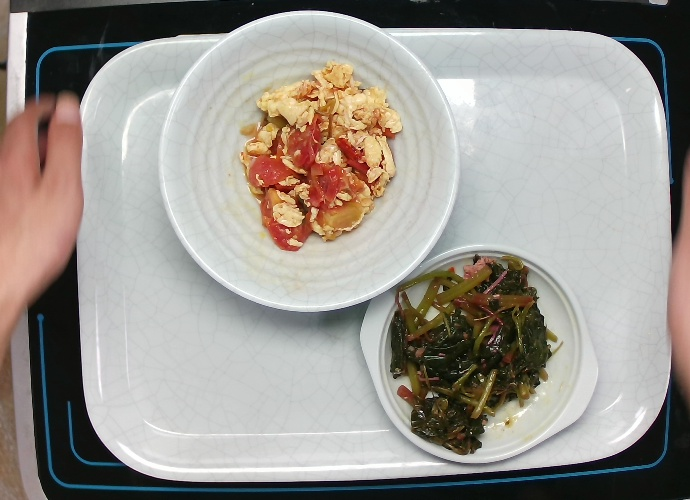JYsf-Shuang_Er_Pan: (356, 241, 601, 467)
JYsf-Xiao_Tang_Wan: (154, 7, 462, 316)
